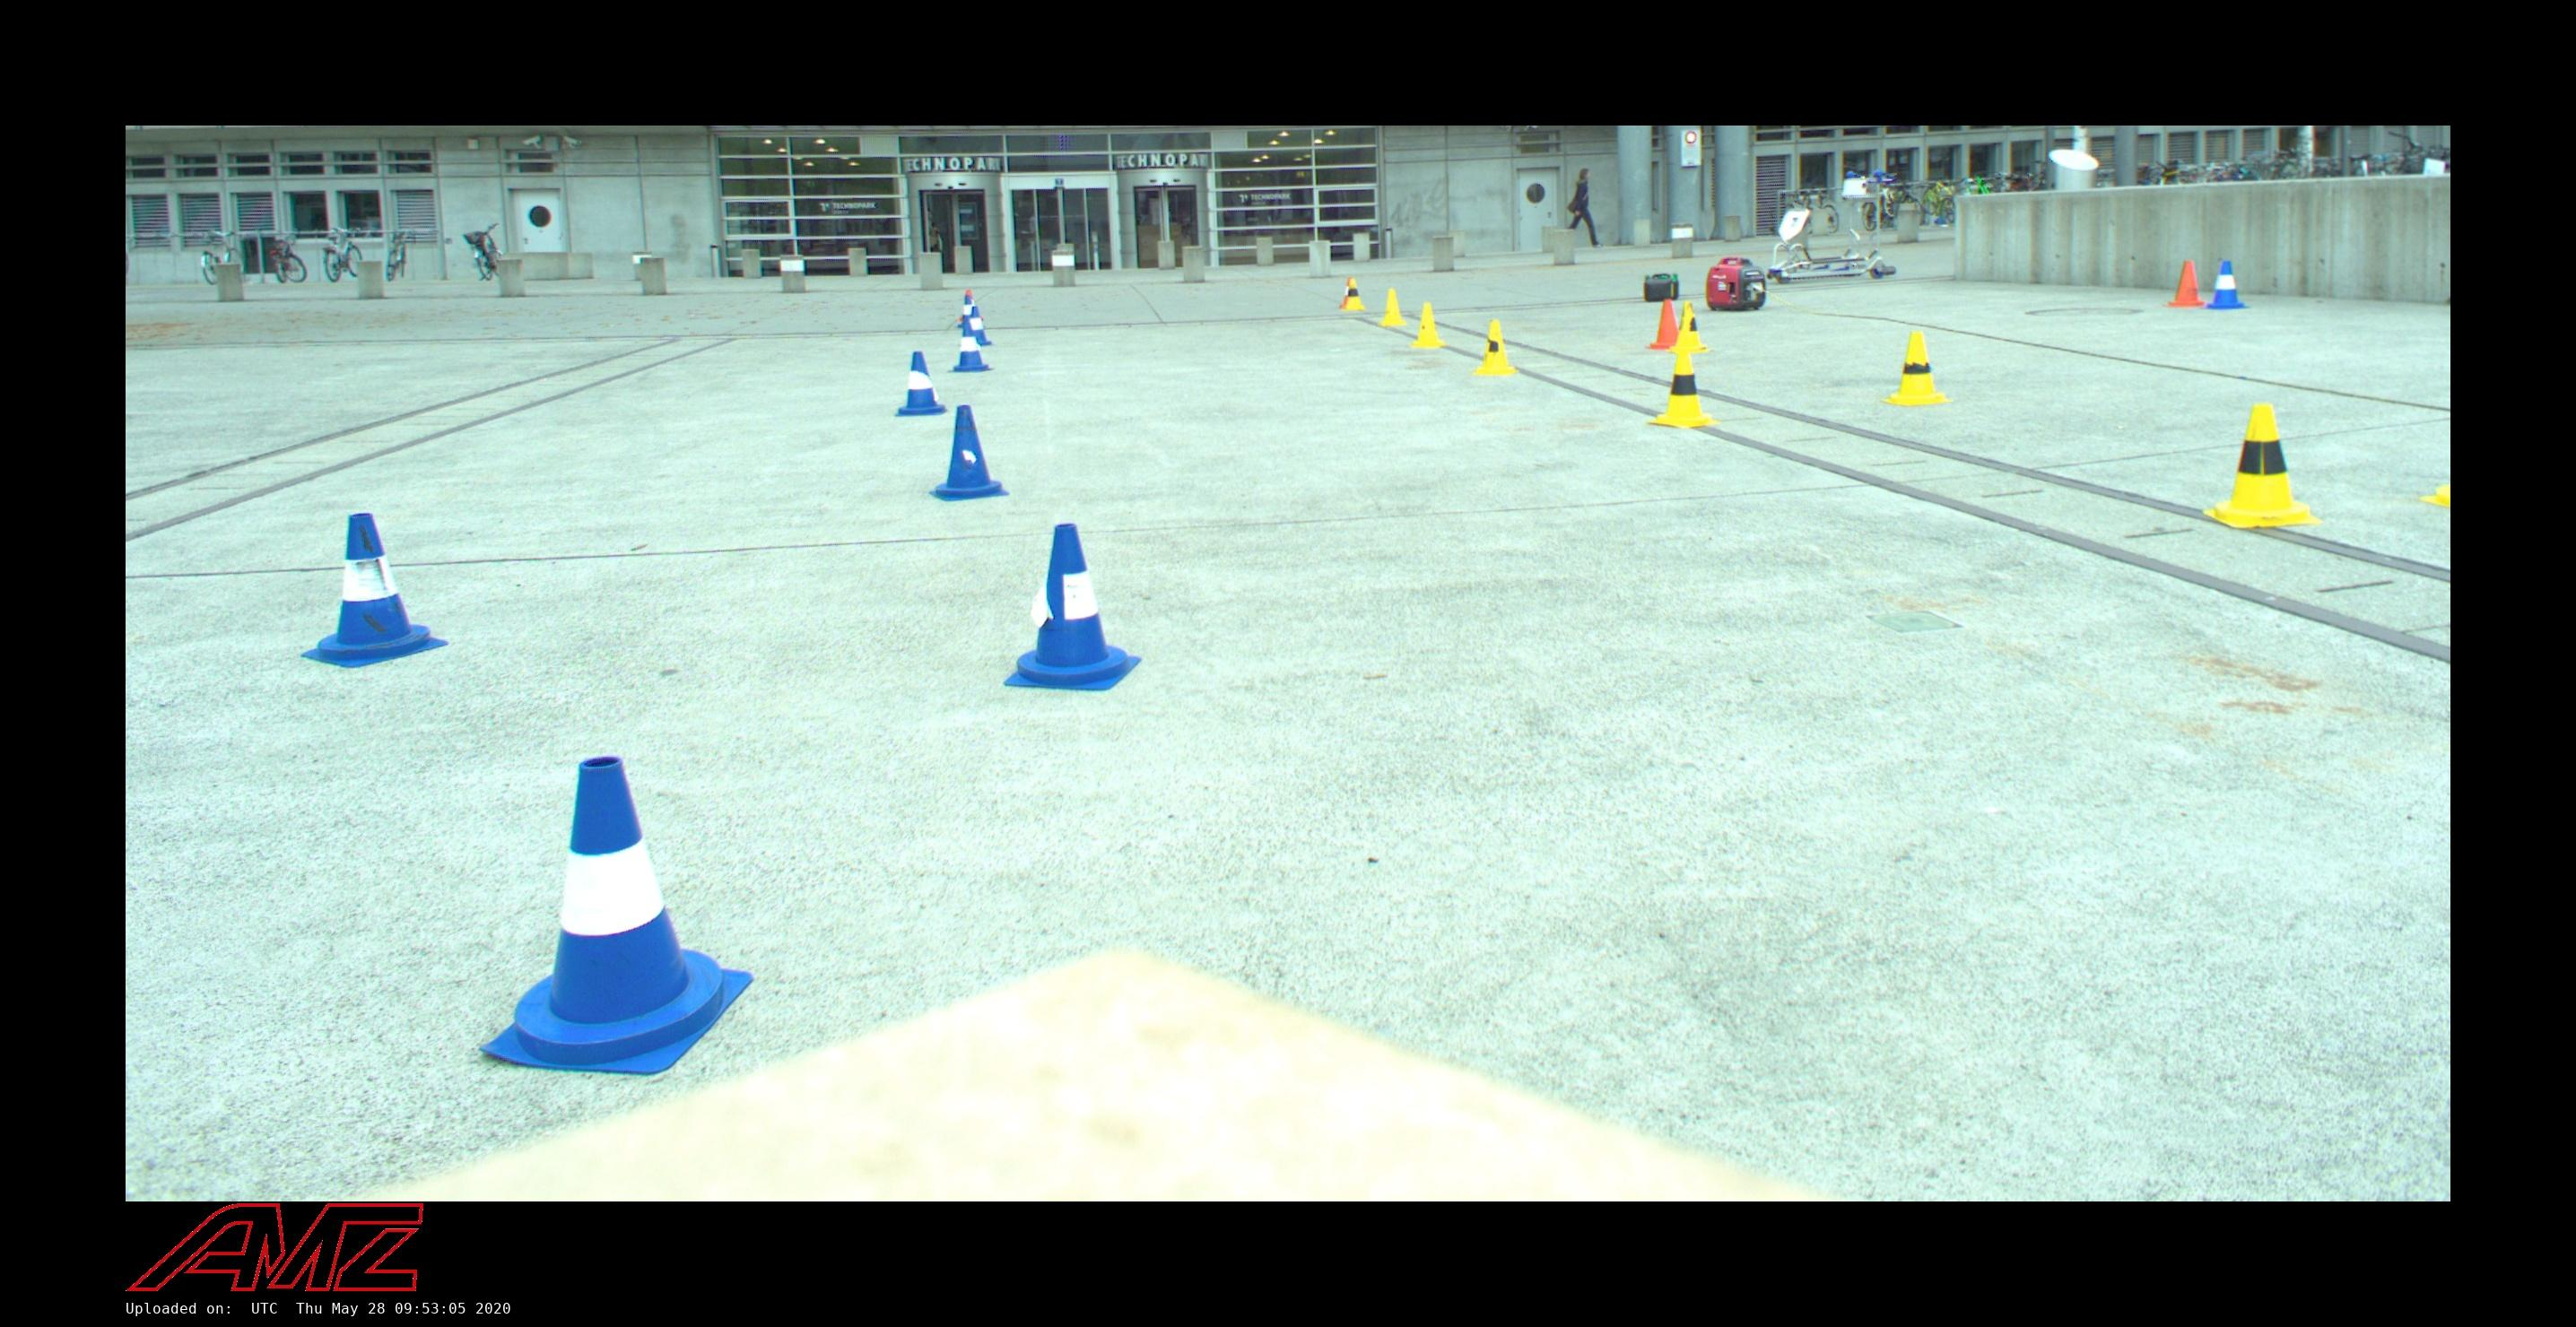blue_cone: (485, 757, 754, 1078), (294, 512, 447, 669), (1004, 525, 1136, 690), (929, 403, 1007, 499), (892, 353, 942, 416), (2206, 259, 2248, 309), (947, 325, 988, 371), (960, 307, 993, 345), (956, 296, 983, 326)
orange_cone: (1647, 299, 1684, 349), (2165, 260, 2205, 305), (957, 290, 985, 320), (1340, 277, 1360, 308)
yellow_cone: (2204, 403, 2325, 530), (1880, 332, 1954, 408), (1649, 352, 1715, 429), (1648, 358, 1715, 429), (1473, 319, 1519, 376), (1667, 301, 1710, 354), (1410, 302, 1448, 348), (1378, 289, 1407, 326), (1342, 279, 1365, 310)
